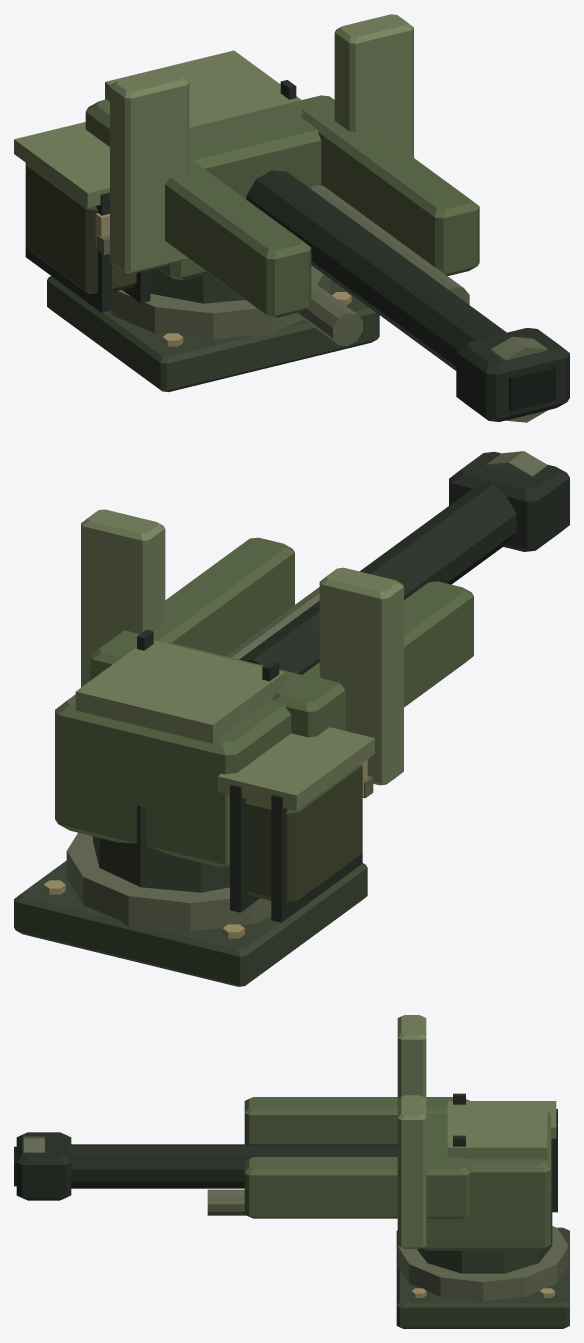
File: anti_tank_station.obj
3 views of the same model, one above another, from view 1: azimuth 30°, elevation 25°; view 2: azimuth 150°, elevation 25°; view 3: azimuth 270°, elevation 25° (orthographic). The views are drawn at different scales.
Parts seen in each view (by area): view 1: MOVING.001, BASE.006; view 2: MOVING.001, BASE.006; view 3: MOVING.001, BASE.006.
Part boxes in pixels (x1=…): MOVING.001: x1=14, y1=14, x2=569, y2=422; BASE.006: x1=47, y1=265, x2=379, y2=392; MOVING.001: x1=55, y1=451, x2=569, y2=922; BASE.006: x1=14, y1=832, x2=367, y2=986; MOVING.001: x1=14, y1=1015, x2=557, y2=1273; BASE.006: x1=396, y1=1226, x2=569, y2=1328.
Bounding box in the file's own units: 1.05 × 1.05 × 2.34.
1 material, 1 textured.
